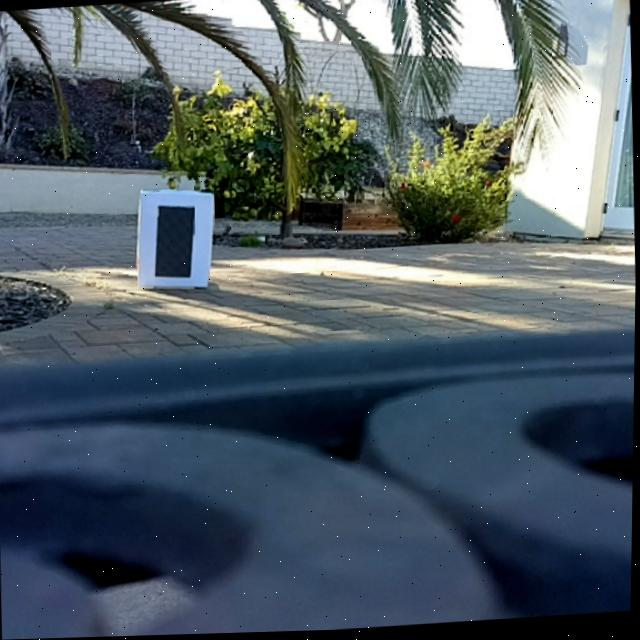led: (154, 204, 197, 281)
